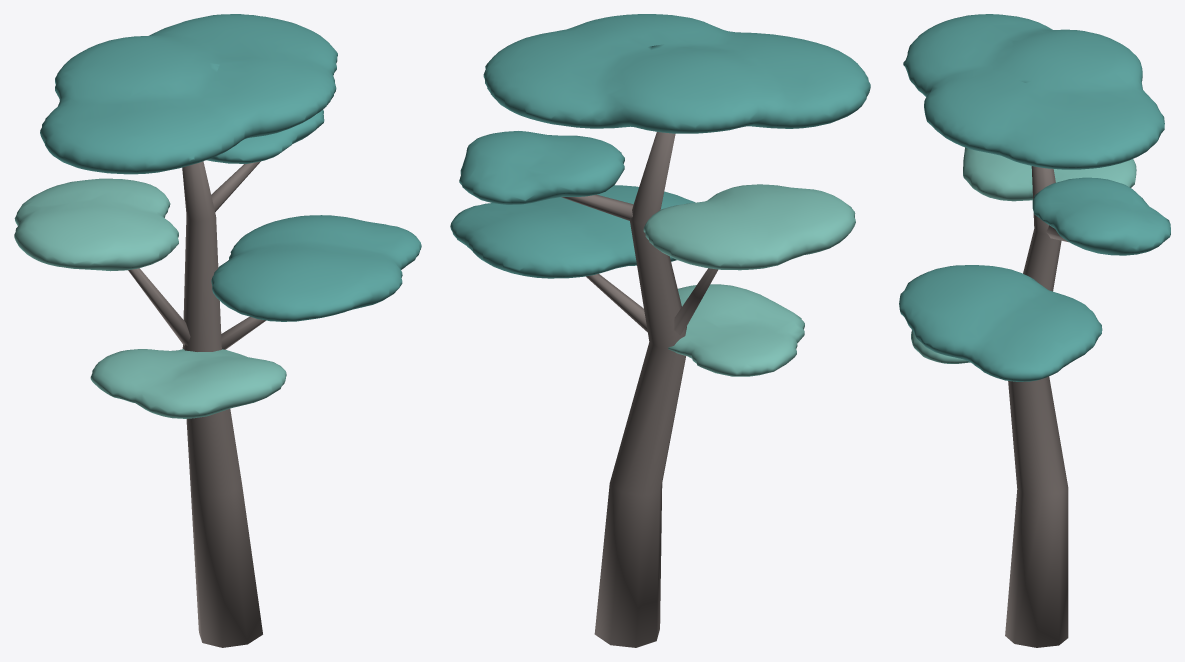
Rendered from pine_b.glb.
3 renders of one model, left to right at view 1: azimuth 30°, elevation 25°; view 2: azimuth 150°, elevation 25°; view 3: azimuth 270°, elevation 25°, orthographic. The views are drawn at different scales.
Parts seen in each view (by area): view 1: Pad0, Trunk, Pad2, Pad1, Pad3, Pad4, Branch1, Branch4, Branch2; view 2: Pad0, Trunk, Pad1, Pad2, Pad4, Pad3, Branch2, Branch1, Branch4; view 3: Pad0, Pad2, Trunk, Pad4, Pad1, Pad3.
Boxes of the visible parts, bbox=[...] form: Pad0: bbox=[40, 14, 337, 174]; Trunk: bbox=[182, 161, 262, 647]; Pad2: bbox=[211, 215, 421, 321]; Pad1: bbox=[14, 178, 178, 271]; Pad3: bbox=[90, 349, 286, 418]; Pad4: bbox=[206, 109, 324, 163]; Branch1: bbox=[128, 268, 190, 345]; Branch4: bbox=[211, 161, 260, 211]; Branch2: bbox=[221, 316, 265, 349]; Pad0: bbox=[483, 14, 870, 133]; Trunk: bbox=[594, 132, 686, 647]; Pad1: bbox=[643, 184, 855, 270]; Pad2: bbox=[450, 185, 695, 278]; Pad4: bbox=[459, 131, 624, 204]; Pad3: bbox=[668, 284, 804, 376]; Branch2: bbox=[586, 273, 647, 331]; Branch1: bbox=[674, 268, 717, 335]; Branch4: bbox=[561, 194, 633, 220]; Pad0: bbox=[903, 14, 1164, 169]; Pad2: bbox=[899, 265, 1102, 381]; Trunk: bbox=[1005, 166, 1068, 647]; Pad4: bbox=[1032, 177, 1170, 255]; Pad1: bbox=[963, 147, 1136, 201]; Pad3: bbox=[911, 330, 970, 363].
Size of the model in its own units: 3.46 by 5.03 by 2.23.
